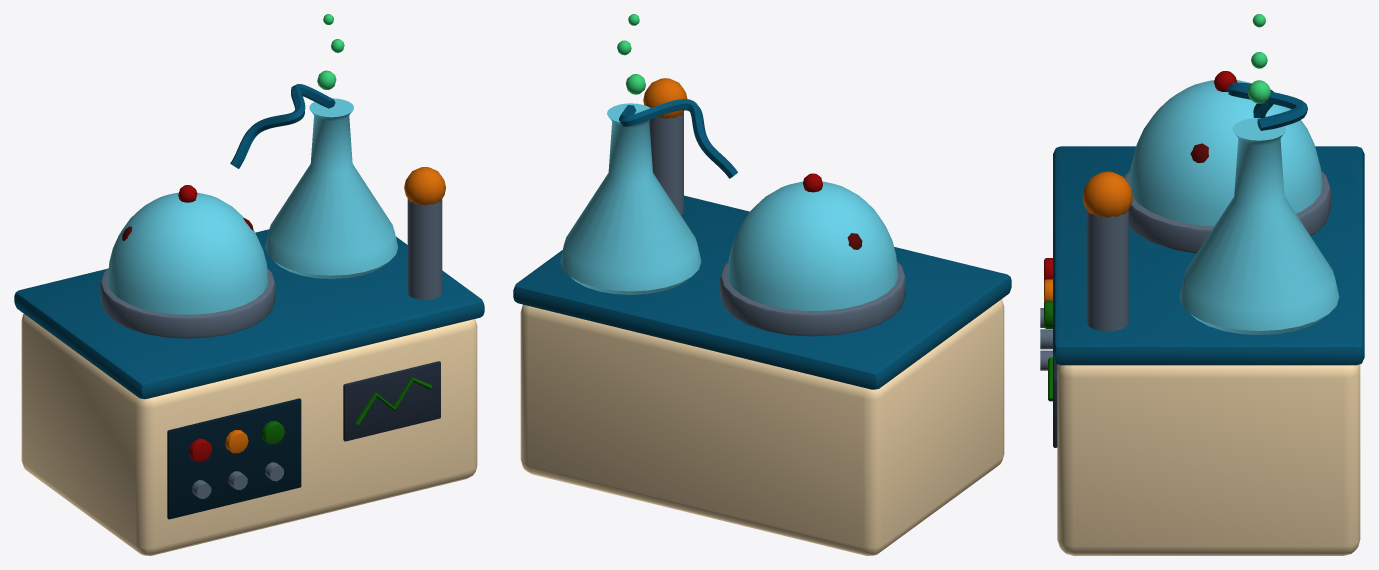
File: LabMachine.obj
The picture shows the model from 3 angles, left to right: view 1: azimuth 30°, elevation 25°; view 2: azimuth 150°, elevation 25°; view 3: azimuth 270°, elevation 25°; orthographic projection. The views are drawn at different scales.
Parts seen in each view (by area): view 1: LabMachine; view 2: LabMachine; view 3: LabMachine.
Part boxes in pixels (x1,y1,x2,y2): LabMachine: (14, 14, 484, 555); LabMachine: (513, 14, 1011, 555); LabMachine: (1040, 14, 1364, 555).
Bounding box in the file's own units: 5.7 × 6.63 × 3.85.
